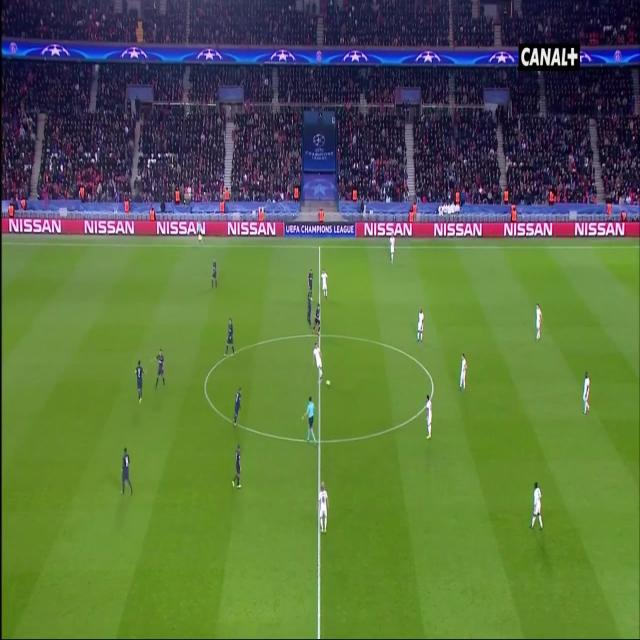Ball: (324, 375, 334, 391)
Player: (527, 478, 547, 532), (118, 442, 134, 500), (316, 480, 331, 534), (231, 440, 245, 493), (221, 316, 237, 361), (580, 366, 592, 419), (154, 347, 168, 392), (230, 386, 244, 429), (424, 390, 434, 446), (310, 341, 323, 384), (134, 359, 146, 403), (414, 304, 426, 345), (534, 299, 544, 345), (312, 298, 322, 340), (458, 351, 468, 393), (320, 267, 331, 302), (304, 290, 313, 328), (211, 258, 220, 294), (387, 234, 397, 263), (307, 266, 315, 296)
Referee: (300, 396, 319, 444), (195, 220, 202, 246)
